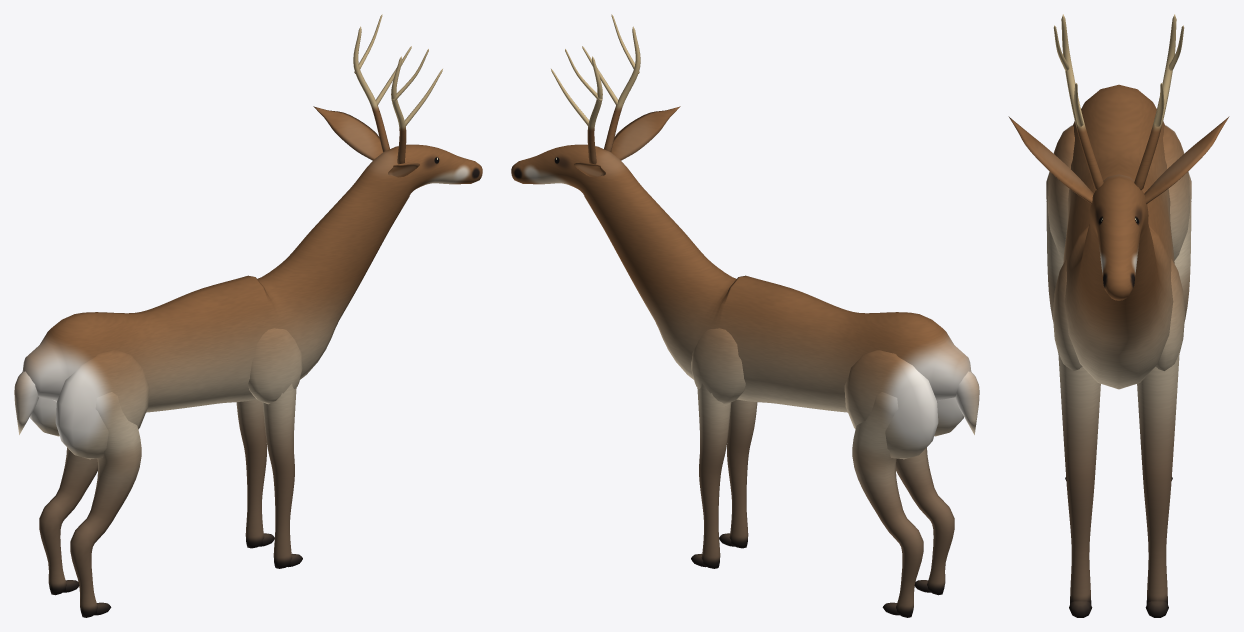
File: deer.glb
3 renders of one model, left to right at view 1: azimuth 30°, elevation 25°; view 2: azimuth 150°, elevation 25°; view 3: azimuth 270°, elevation 25°, orthographic. The views are drawn at different scales.
Visible parts, largest first — view 1: deer; view 2: deer; view 3: deer.
Boxes of the visible parts, x1,y1,x2,y2 form: deer: [14, 14, 482, 617]; deer: [511, 14, 979, 617]; deer: [1008, 14, 1229, 617].
Bounding box in the file's own units: 1.72 × 1.74 × 0.5156.
Materials: 1 (1 with a texture image).
